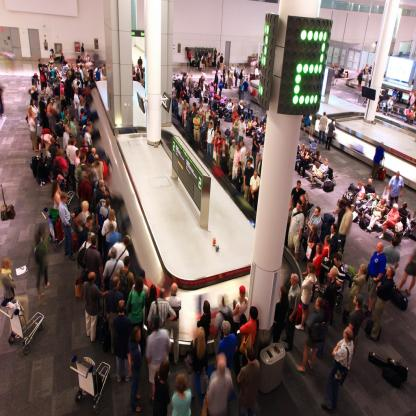airport-trolley: (68, 347, 113, 416), (0, 293, 48, 356), (38, 203, 68, 251)
